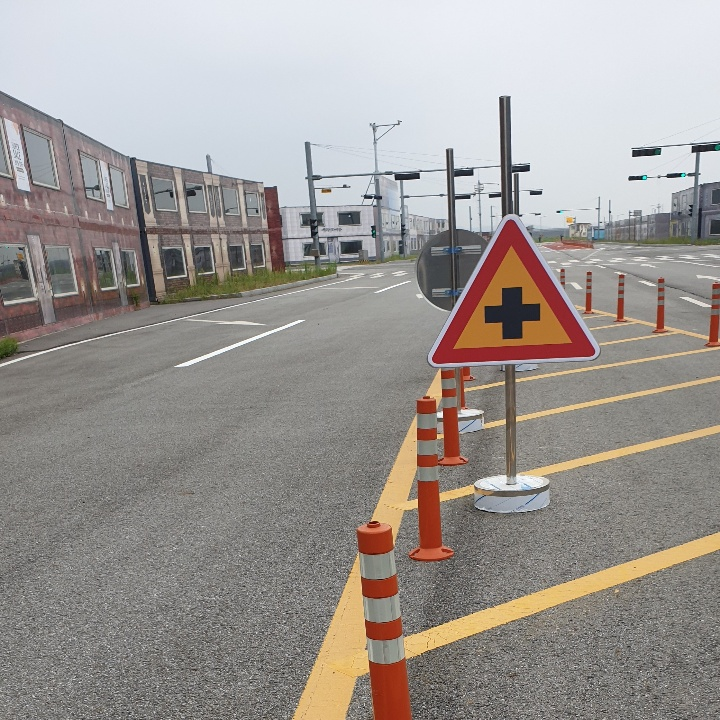inter: (476, 280, 548, 344)
